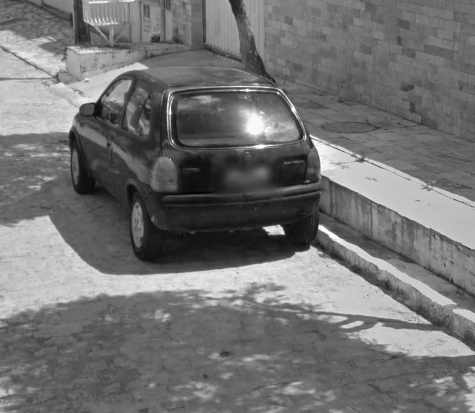car: (65, 64, 324, 261)
